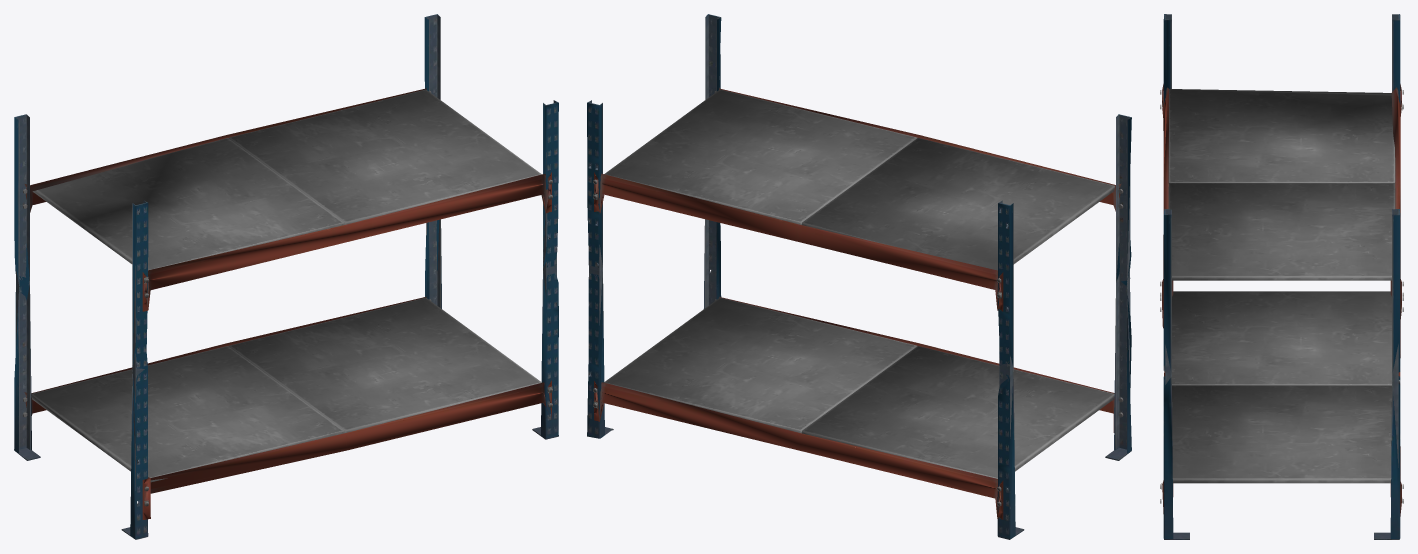
File: rack.glb
3 renders of one model, left to right at view 1: azimuth 30°, elevation 25°; view 2: azimuth 150°, elevation 25°; view 3: azimuth 270°, elevation 25°, orthographic. The views are drawn at different scales.
Parts seen in each view (by area): view 1: sm_rack_a01_mesh_00; view 2: sm_rack_a01_mesh_00; view 3: sm_rack_a01_mesh_00.
Part boxes in pixels (box(x1,y1,x2,y2)): sm_rack_a01_mesh_00: box(14, 14, 558, 539); sm_rack_a01_mesh_00: box(587, 14, 1131, 539); sm_rack_a01_mesh_00: box(1160, 14, 1403, 539).
Size of the model in its own units: 4 by 3.01 by 2.05.
Materials: 3 (3 with a texture image).
